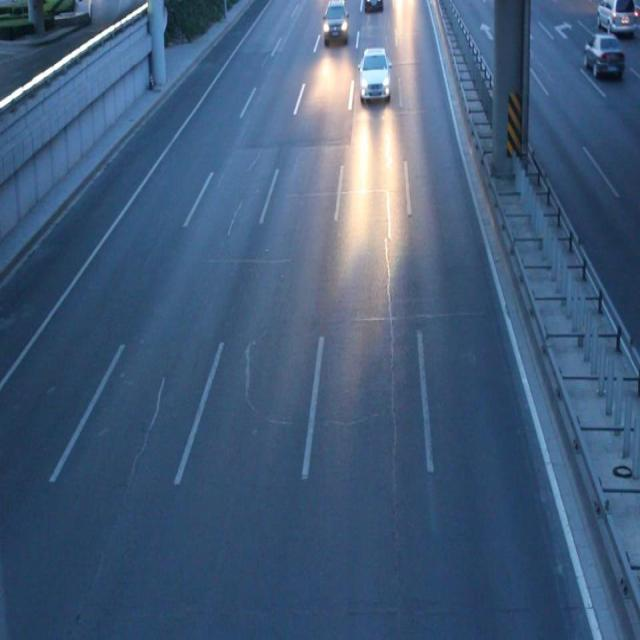car: (358, 47, 391, 102), (323, 1, 347, 43)
